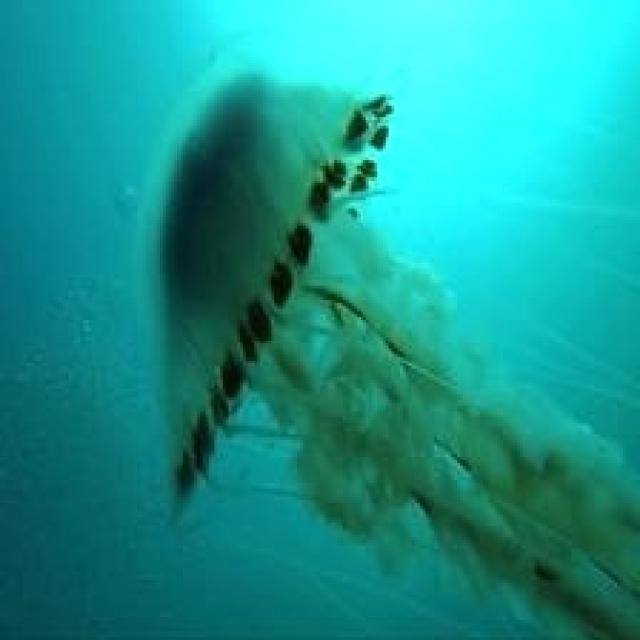Jellyfish: (138, 40, 638, 637)
